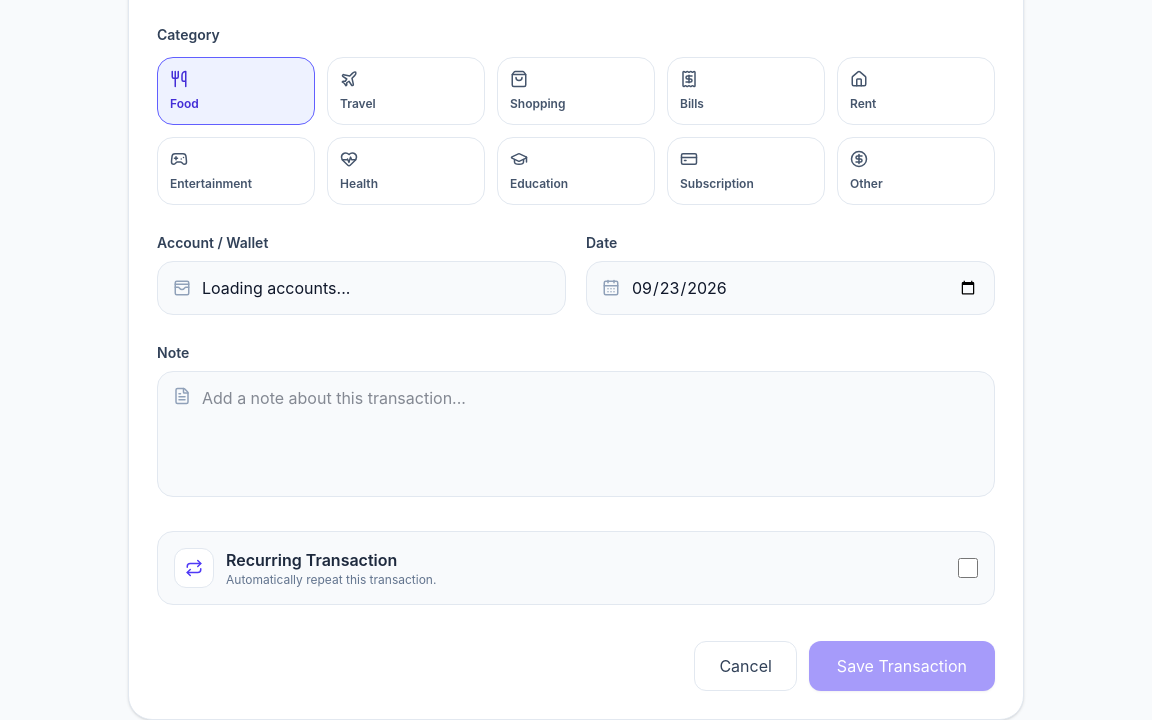
Test: Add Transaction Component › should show recurring frequency when enabled
(page scrolled)
Click the checkbox.
click(968, 568)  # box [958, 558, 978, 578]
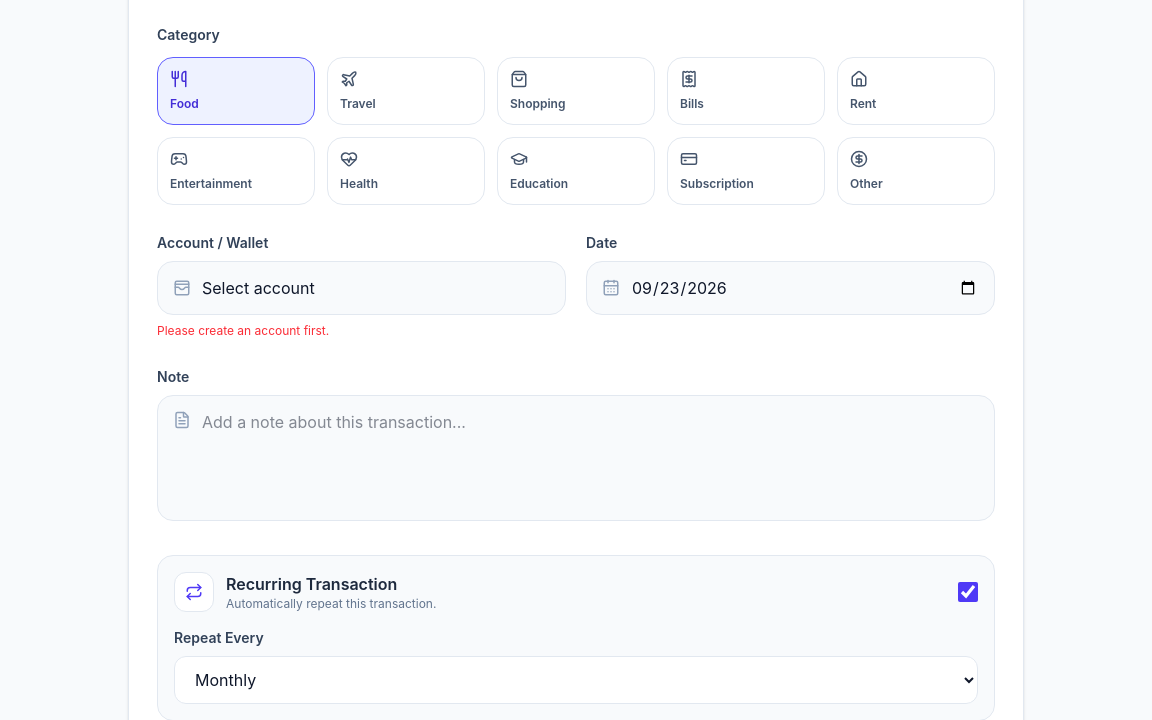
Expected: the checkbox is checked, [958, 582, 978, 602]
Expected: the text "Repeat Every" is shown, [174, 629, 264, 646]
Expected: the dropdown named "recurringFrequency" below "Repeat Every" shows "Monthly", [174, 656, 978, 704]
